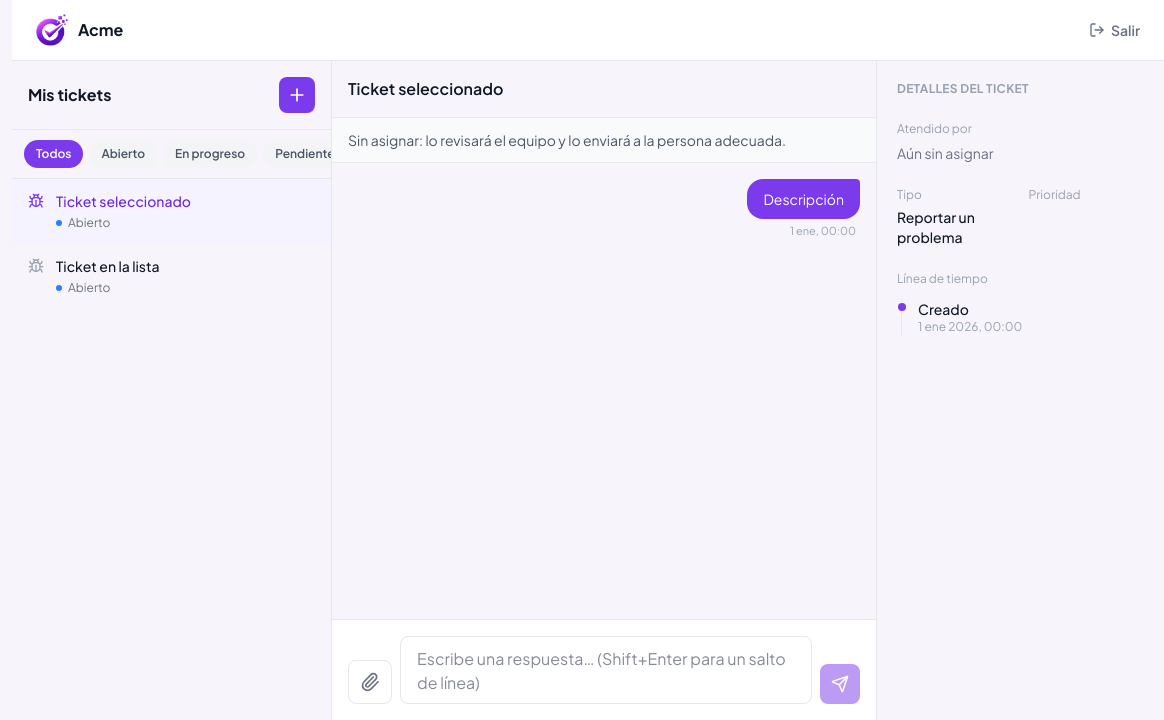
Test case: PortalInboxScreen detalle del ticket › no duplica el comentario si el evento en vivo llega antes que la respuesta del envío
The width and height of the screenshot is (1164, 720).
Check: the text "Descripción" is shown, box [747, 179, 860, 219]
Type "Hola equipo" into the text box named "Tu respuesta" at (606, 670), box [400, 636, 812, 704]
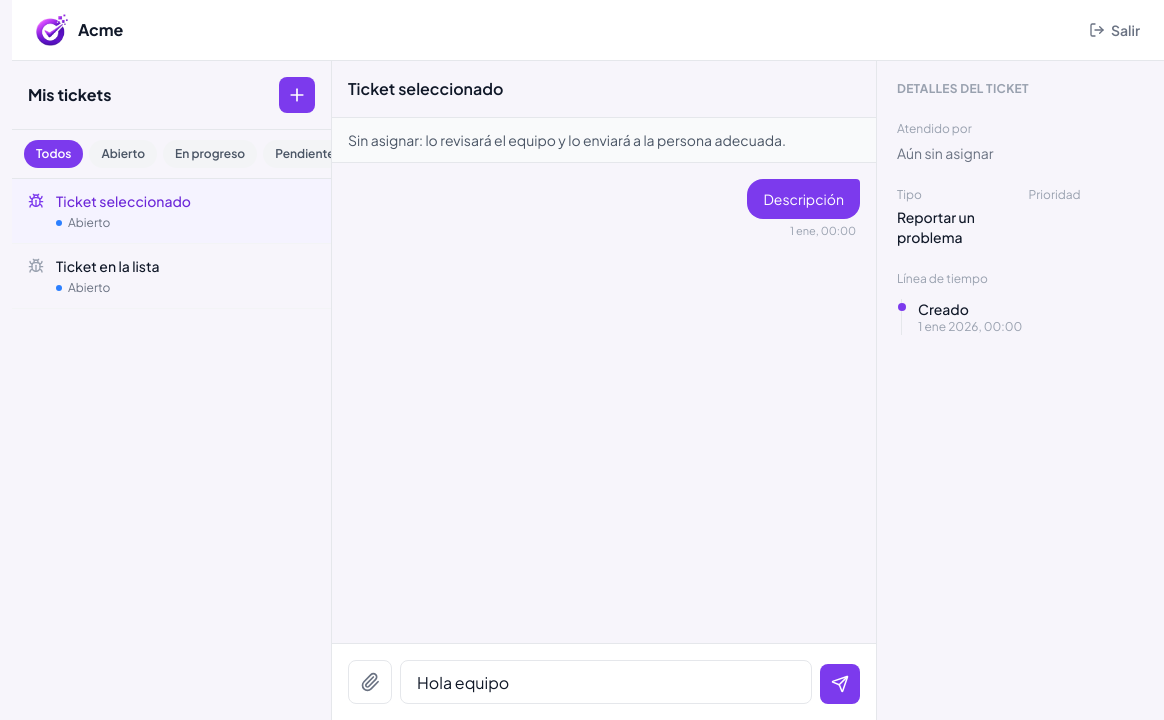
Click the button named "Enviar" at (840, 684), box [820, 664, 860, 704]
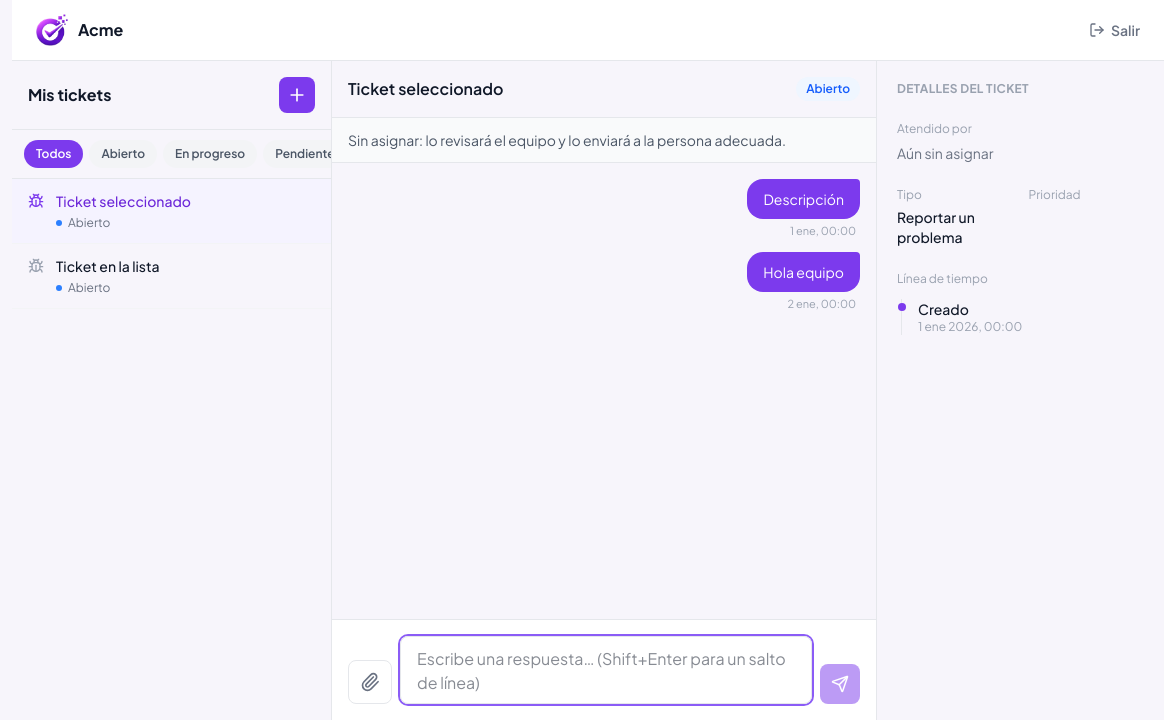
Check: the text "Hola equipo" is shown once, box [747, 252, 860, 292]
